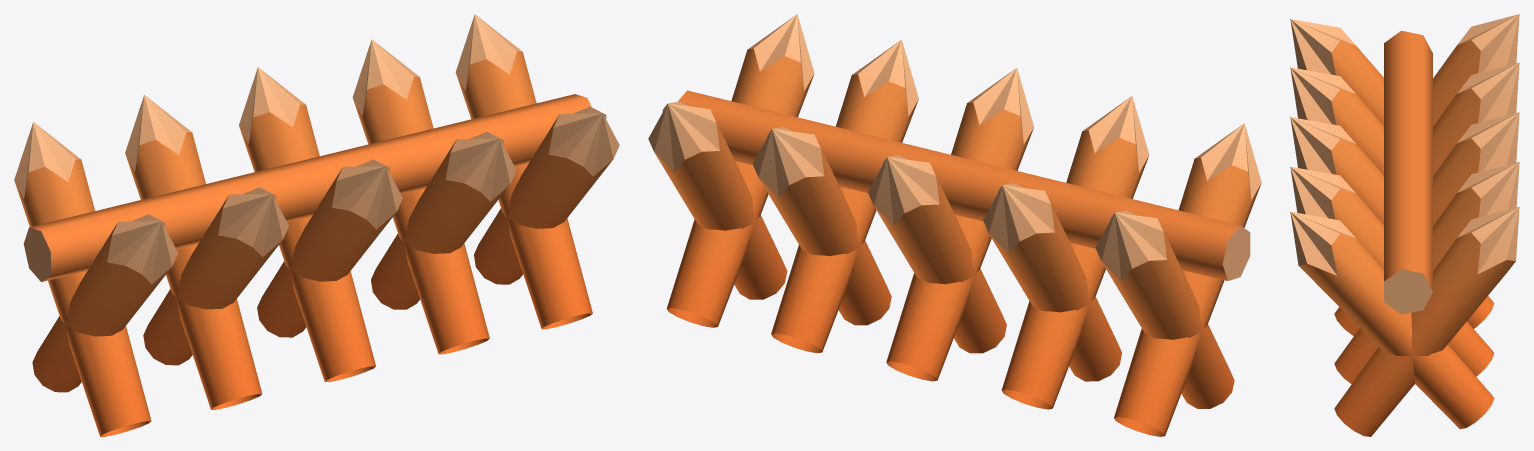
The model's file is Props_Wooden_Barrier_01.fbx.
3 views of the same model, side by side, from view 1: azimuth 30°, elevation 25°; view 2: azimuth 150°, elevation 25°; view 3: azimuth 270°, elevation 25° (orthographic). The views are drawn at different scales.
Visible parts, largest first — view 1: Props_Wooden_Barrier_01; view 2: Props_Wooden_Barrier_01; view 3: Props_Wooden_Barrier_01.
Part boxes in pixels (x1,y1,x2,y2): Props_Wooden_Barrier_01: [14, 14, 619, 436]; Props_Wooden_Barrier_01: [648, 14, 1261, 436]; Props_Wooden_Barrier_01: [1290, 14, 1519, 436].
Size of the model in its own units: 200 by 88.74 by 81.28.
